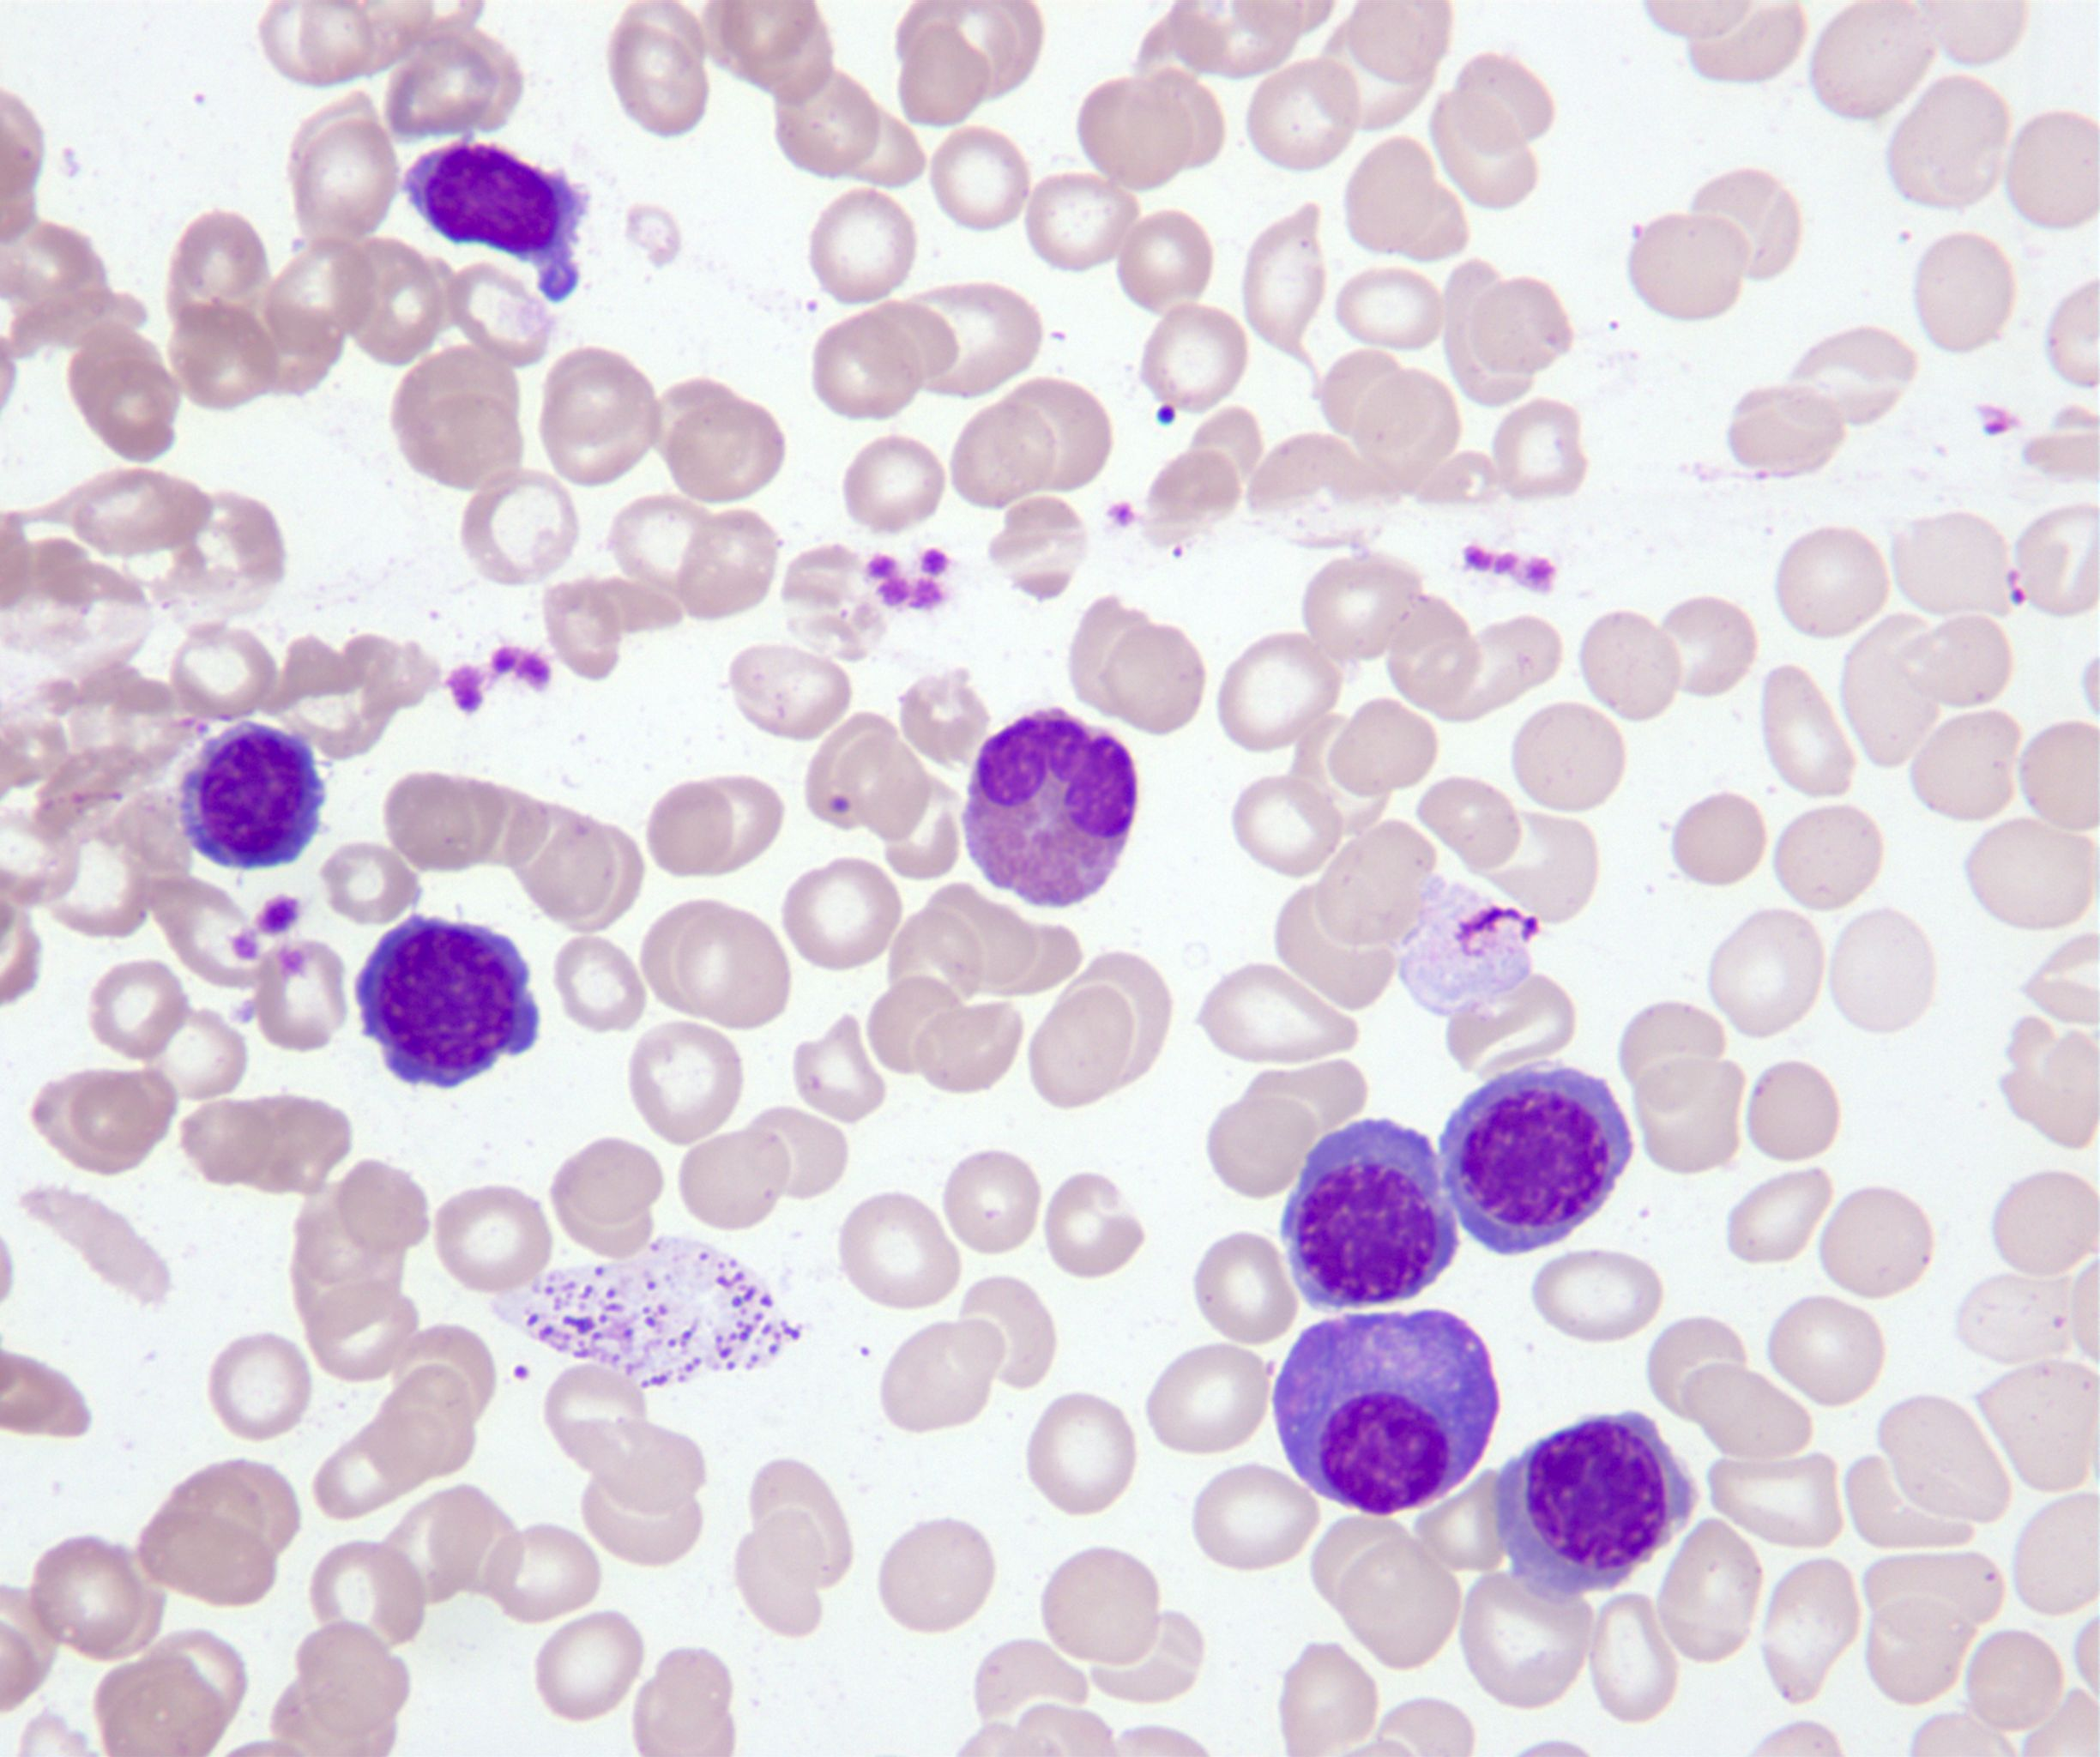23: (1497, 1413, 1695, 1607), (1442, 1066, 1633, 1255), (1280, 1120, 1458, 1310), (358, 914, 537, 1089), (181, 722, 326, 871)
32: (401, 145, 584, 305)
52: (1273, 1310, 1498, 1514)
E4: (963, 707, 1135, 909)
